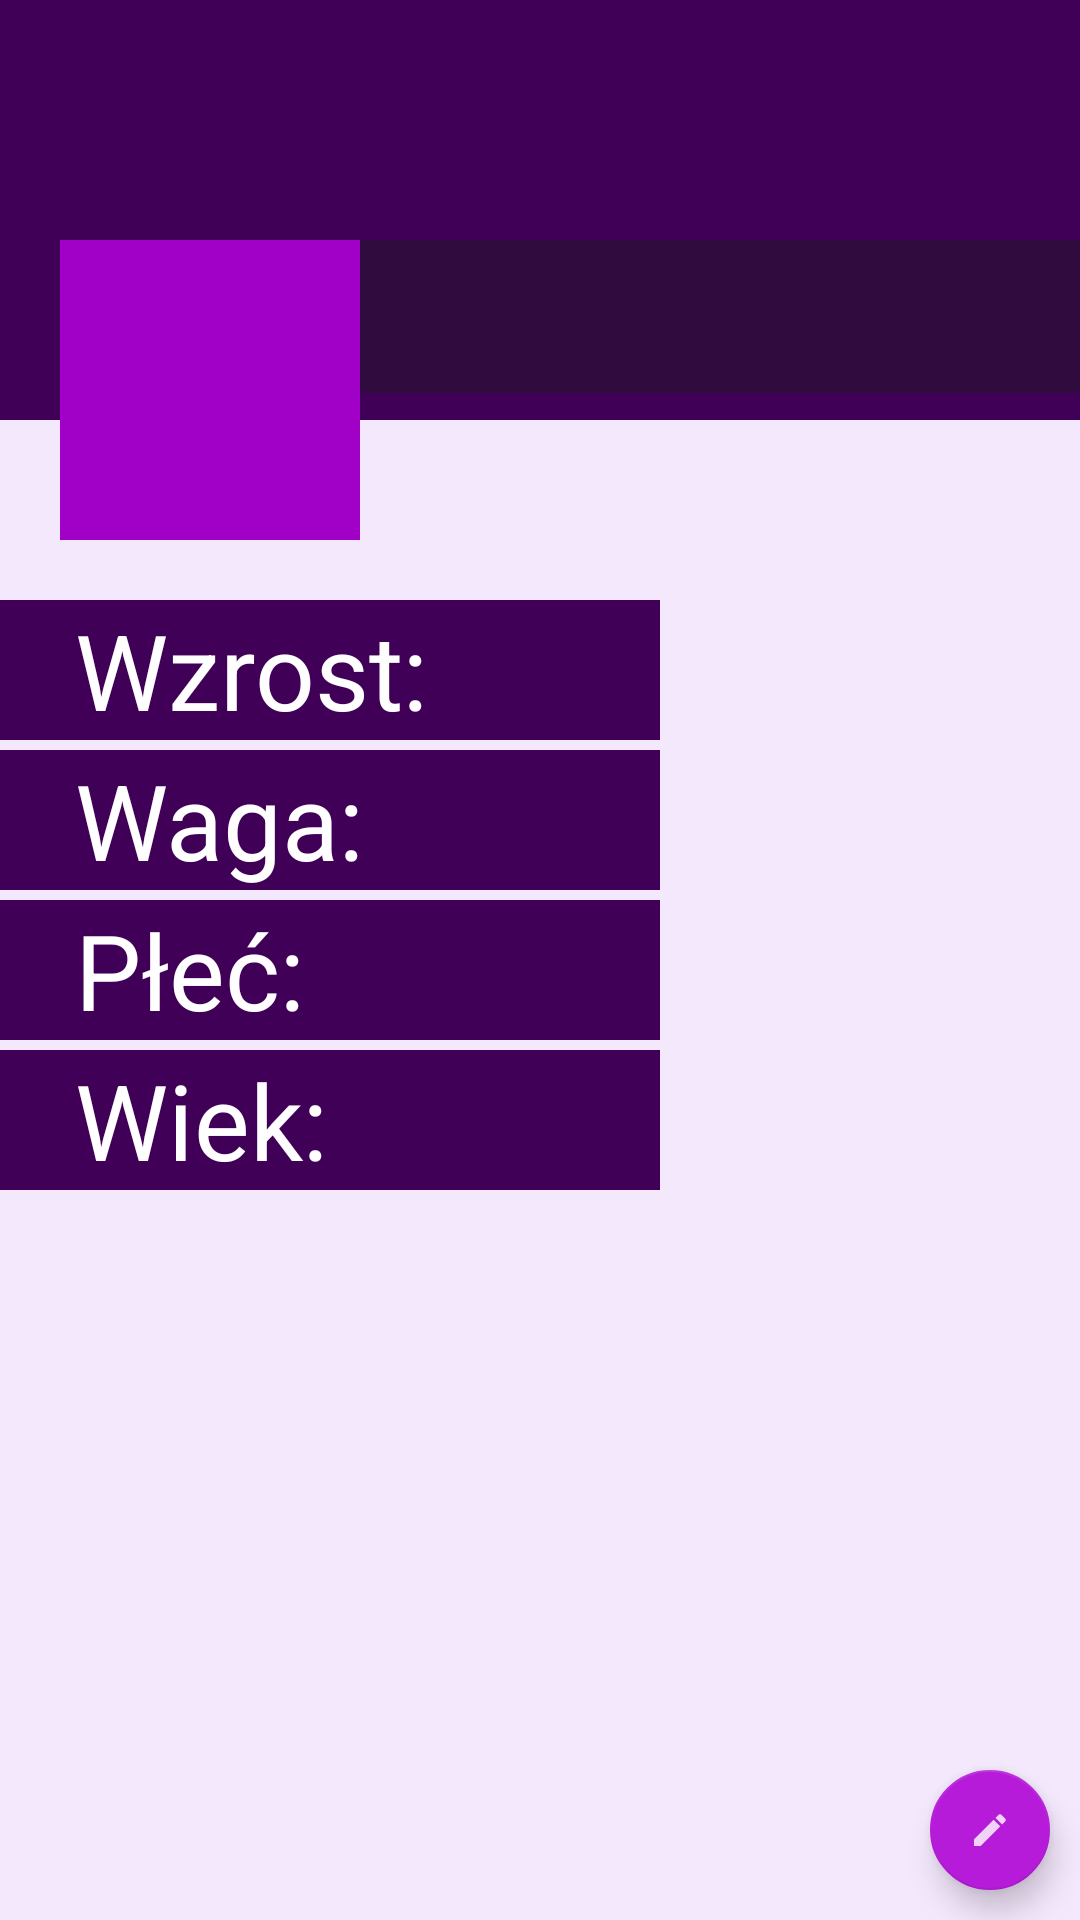

Screen size 1080x1920. Icon name, then its box in pixels as BBox(x1, y1, x2, y2):
edit: BBox(930, 1770, 1050, 1890)
